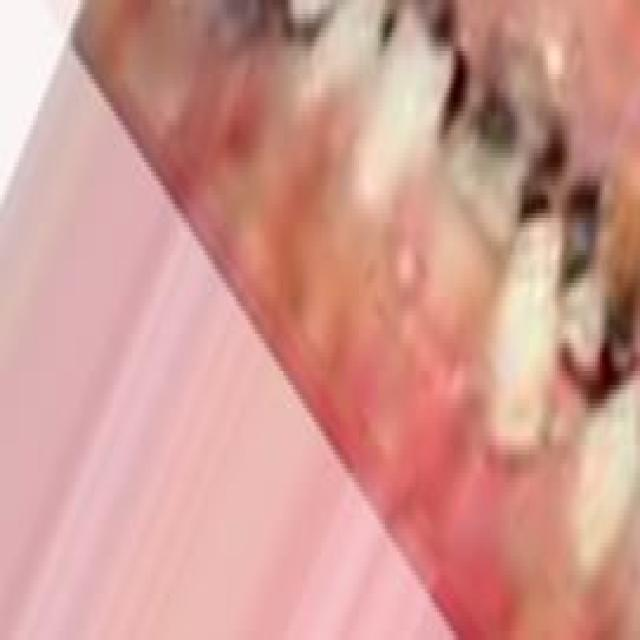caries: (441, 21, 553, 246), (553, 145, 640, 381)
